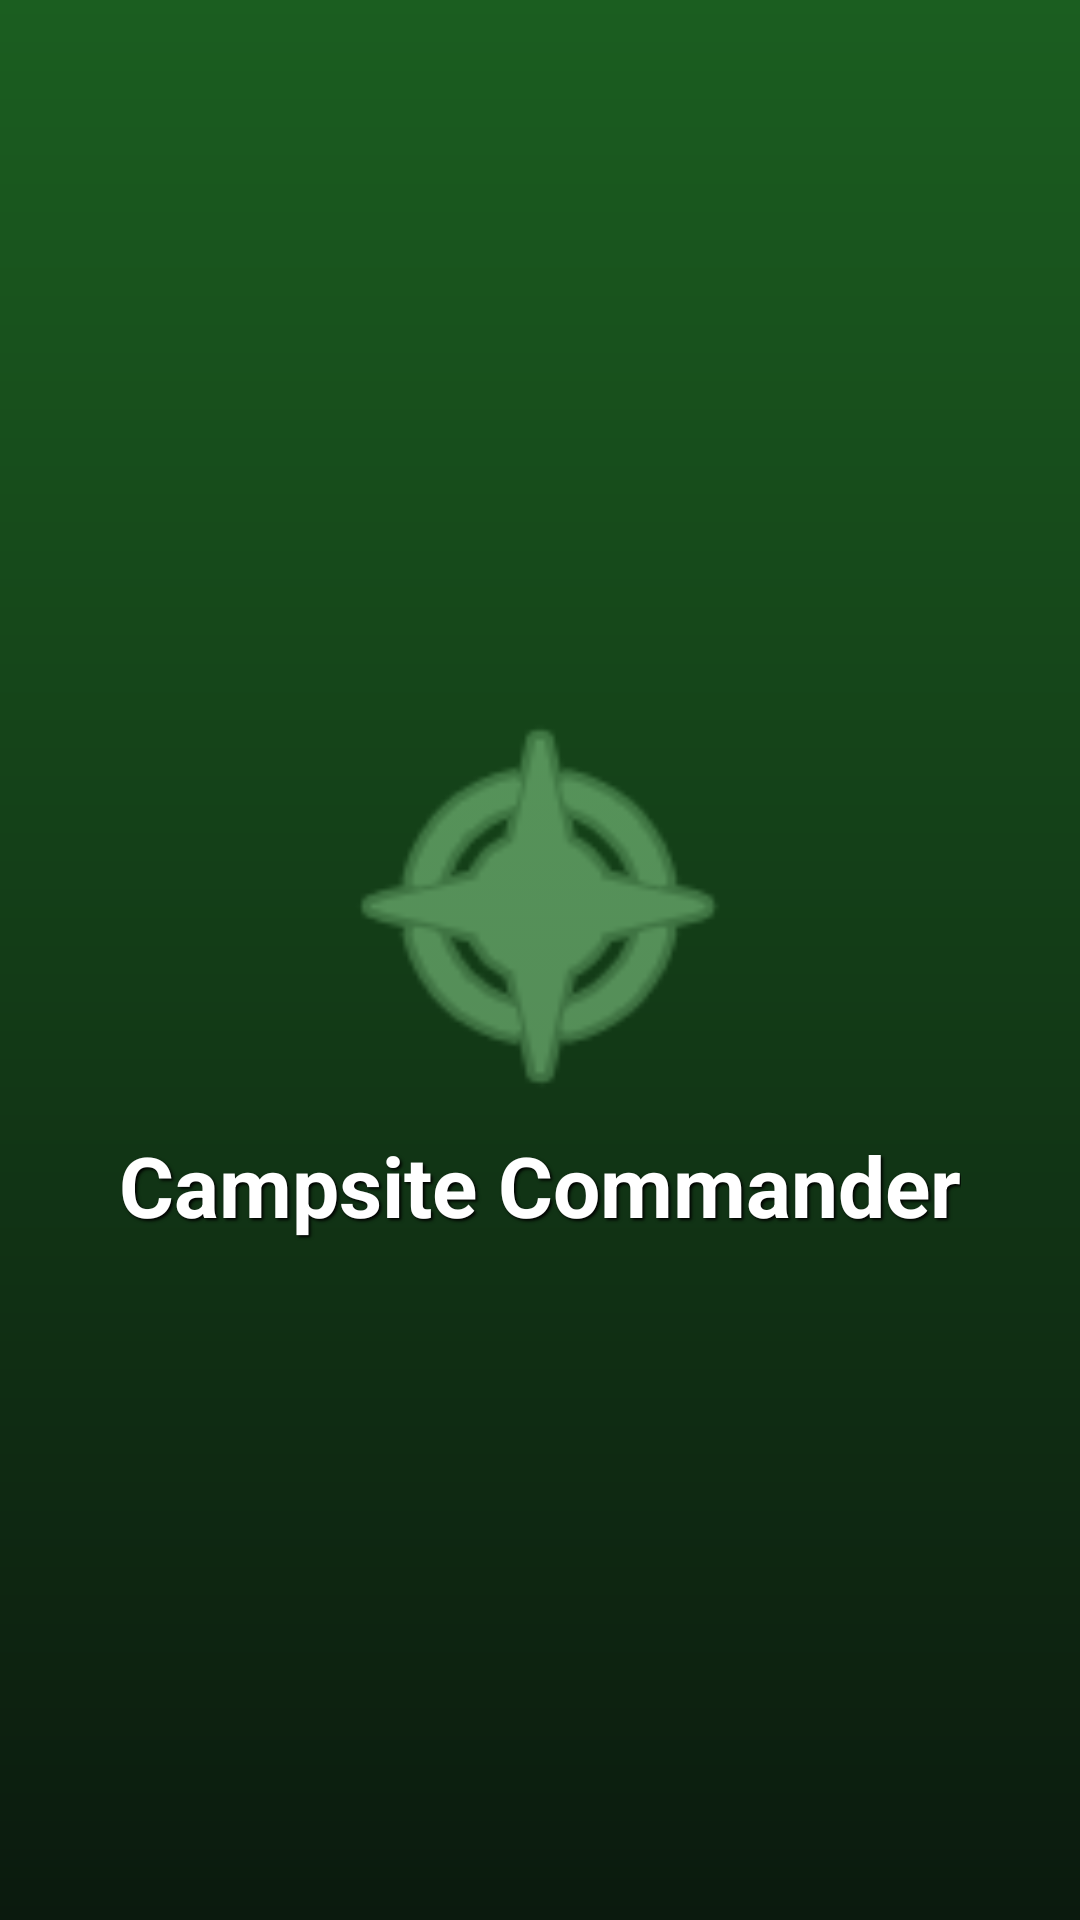

Icons on this 1080px×1920px Android screen, each with its box as {"left": x1, "top": y1, "right": x2, "bottom": y2}:
compass: {"left": 362, "top": 730, "right": 714, "bottom": 1082}
